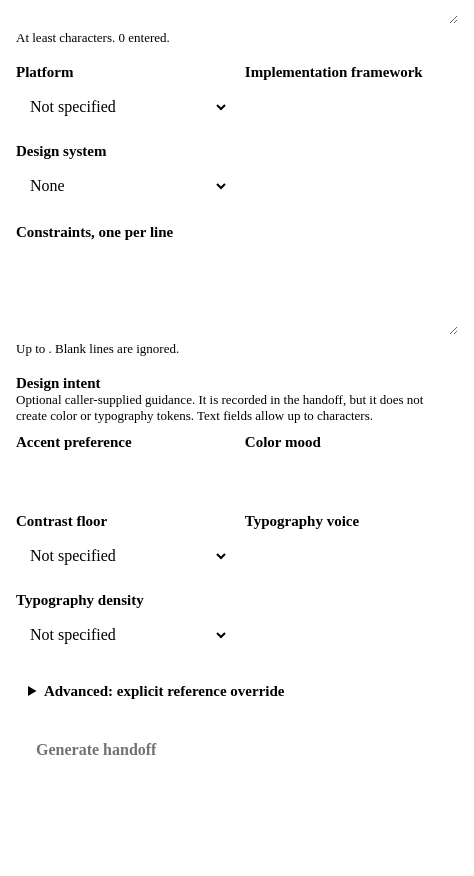
Scenario: PlaygroundPage — idle › points explicit-reference users to browse without enumerating reference ids
(page scrolled)
Click the heading "Advanced: explicit reference override" at coordinates (164, 691), box x1=44 y1=683 x2=284 y2=699
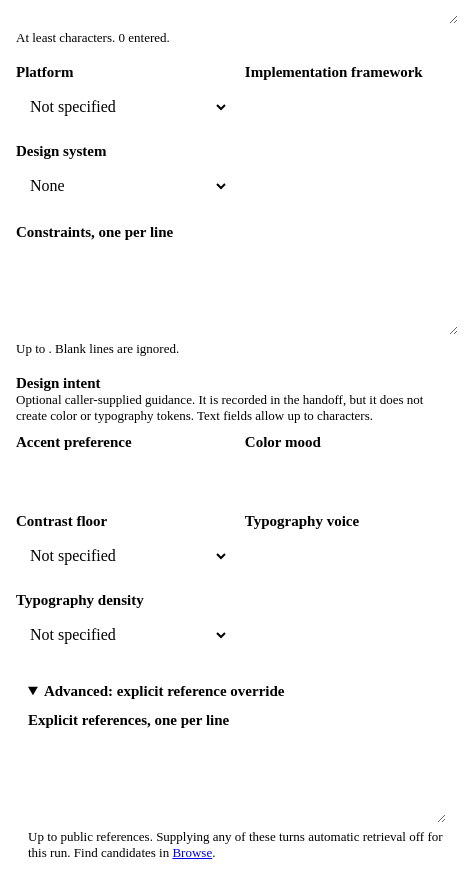
Now the text "automatic retrieval off" shows "browse", box x1=172 y1=845 x2=212 y2=860
